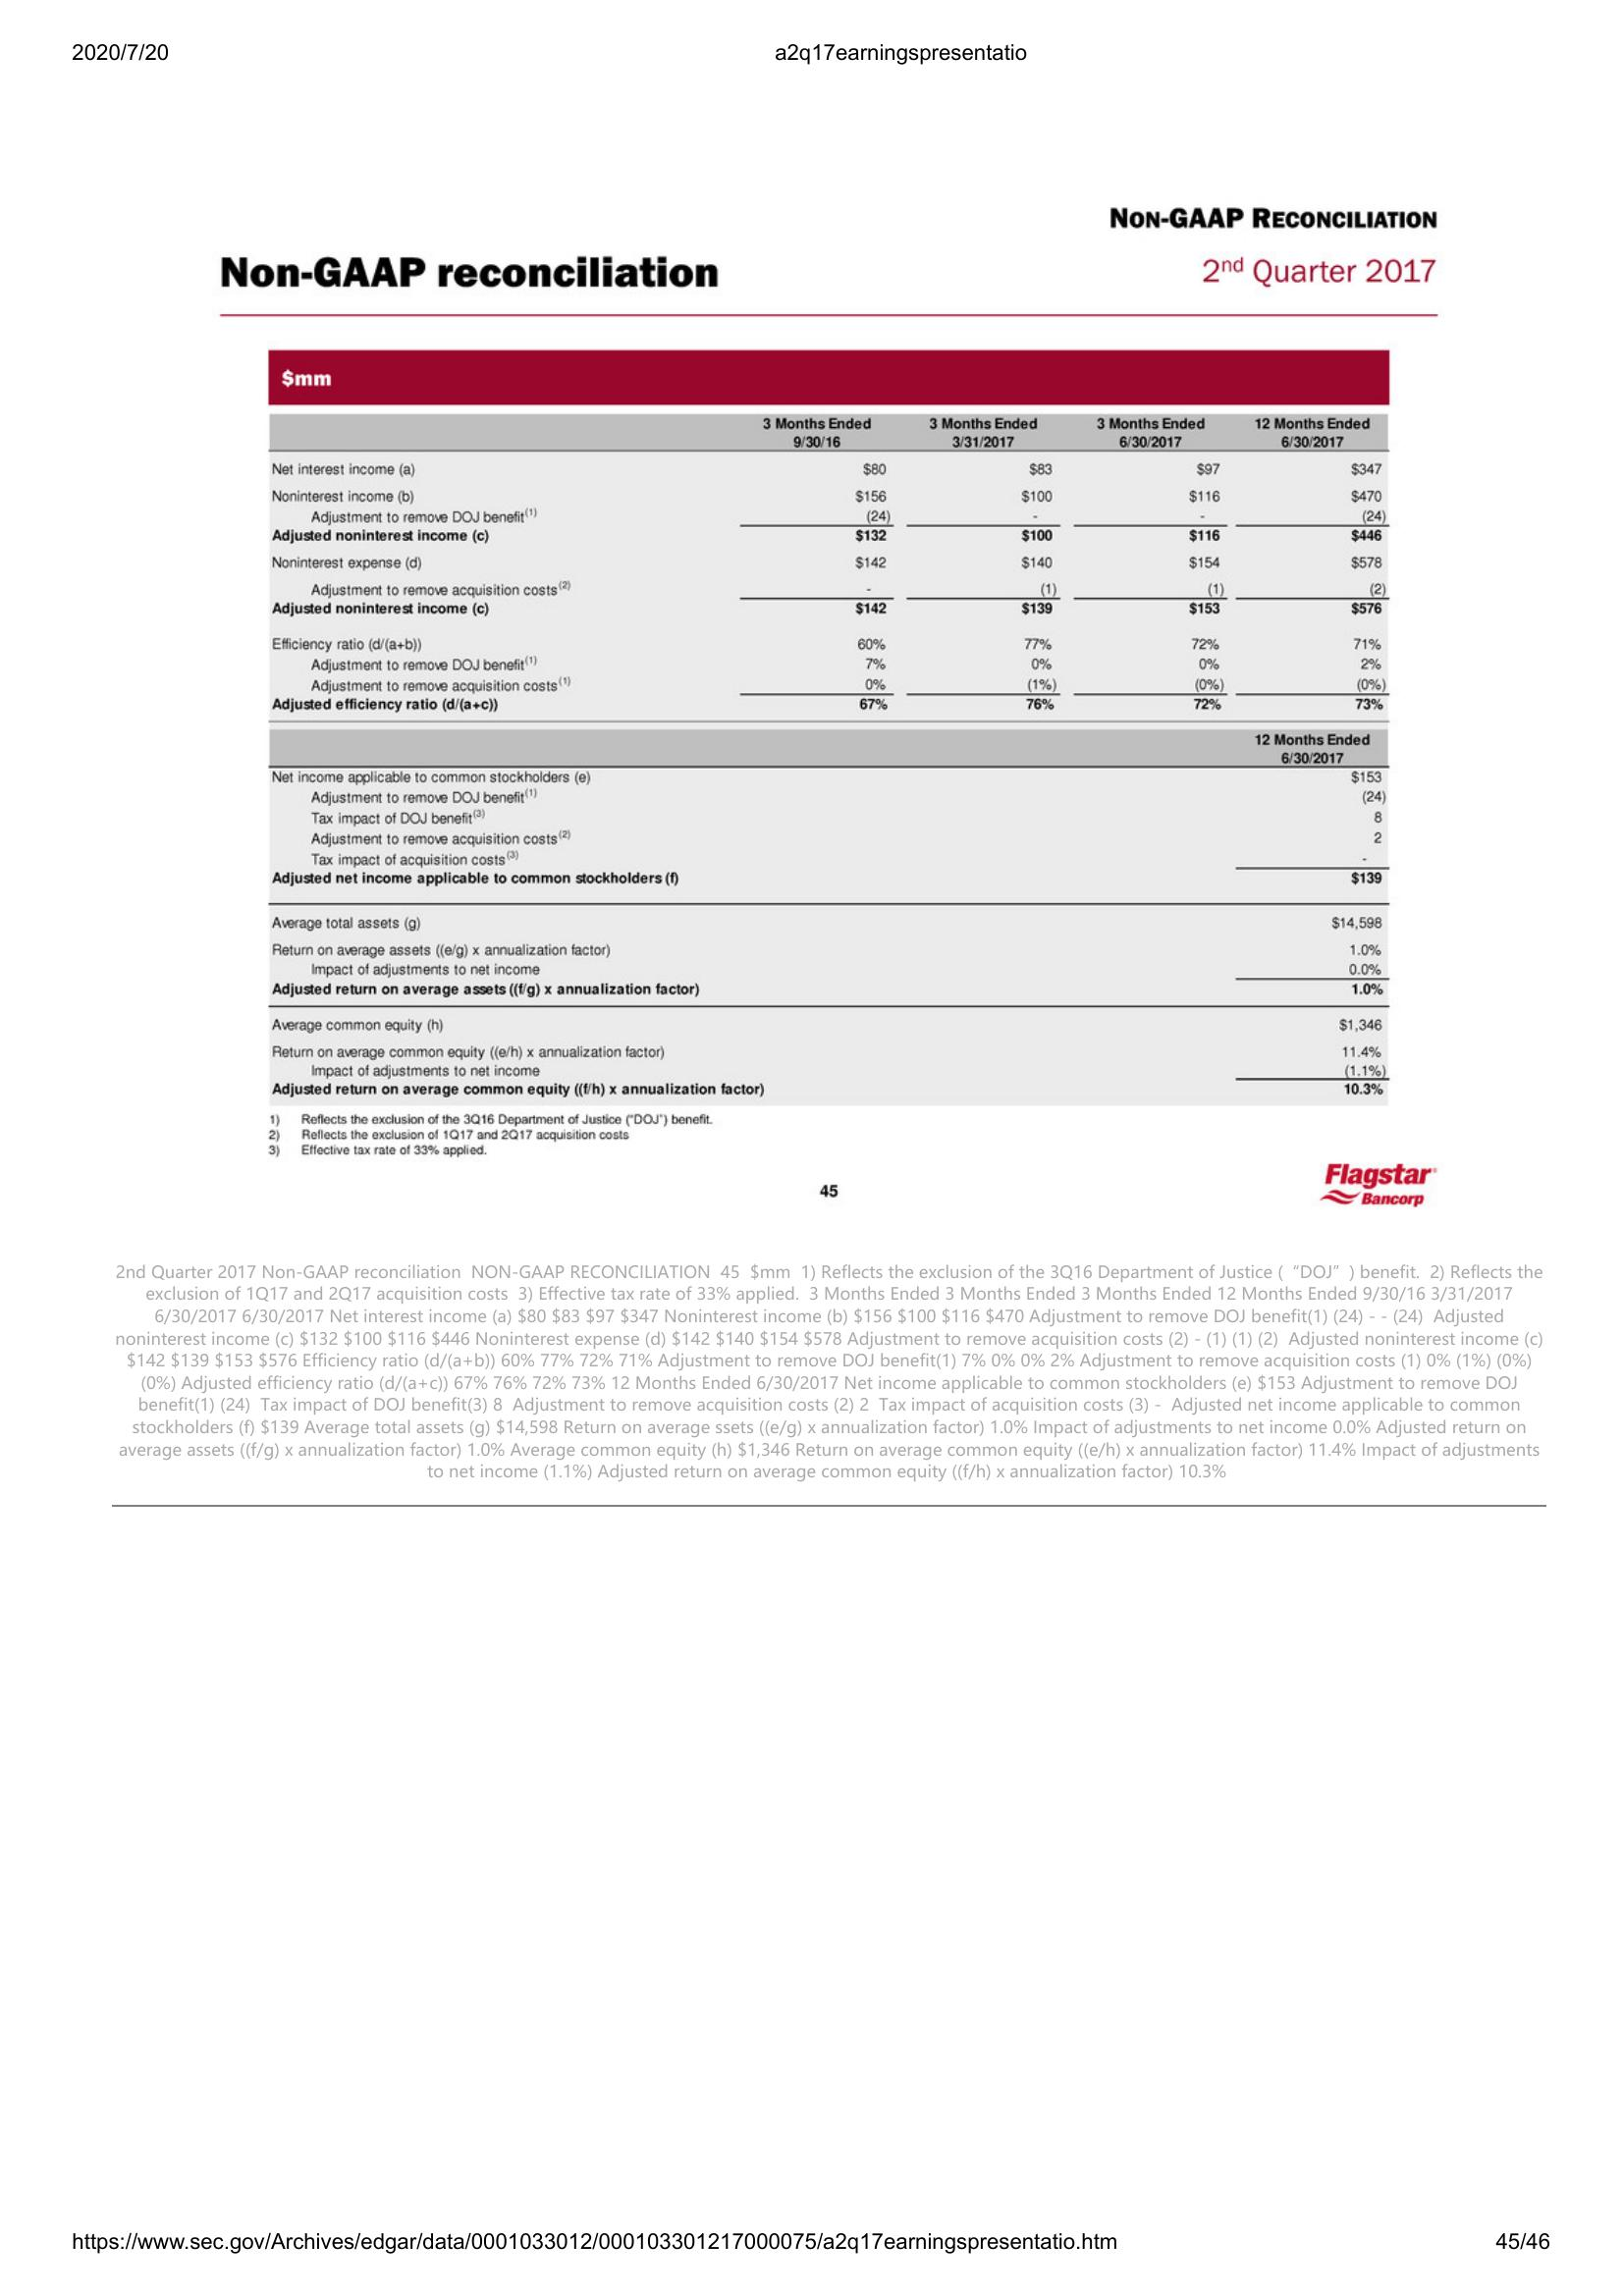table: (262, 344, 1396, 1108)
